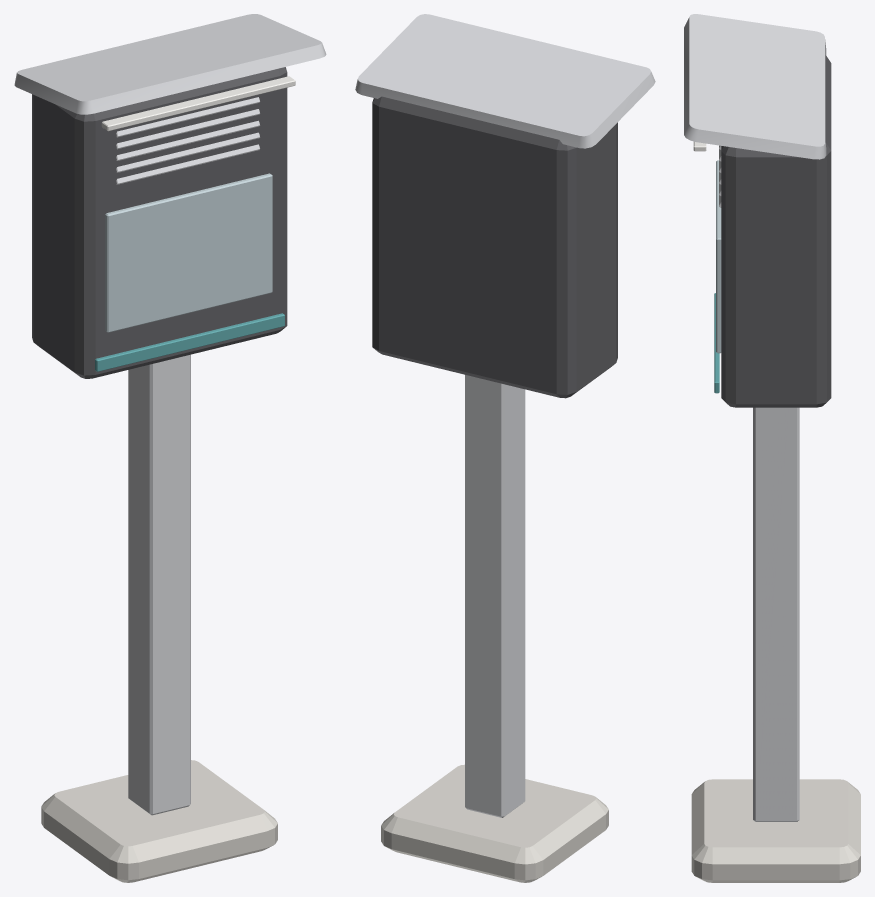
The model's file is fast-food-and-drive-thru-drive-thru-order-point-1294c6ce__16192.glb.
3 views of the same model, side by side, from view 1: azimuth 30°, elevation 25°; view 2: azimuth 150°, elevation 25°; view 3: azimuth 270°, elevation 25° (orthographic). The views are drawn at different scales.
Parts seen in each view (by area): view 1: drive-thru-order-point; view 2: drive-thru-order-point; view 3: drive-thru-order-point.
Boxes of the visible parts, x1,y1,x2,y2 form: drive-thru-order-point: (14, 14, 326, 882); drive-thru-order-point: (355, 14, 655, 882); drive-thru-order-point: (684, 14, 860, 882).
Size of the model in its own units: 0.6599 by 2.03 by 0.4179.
